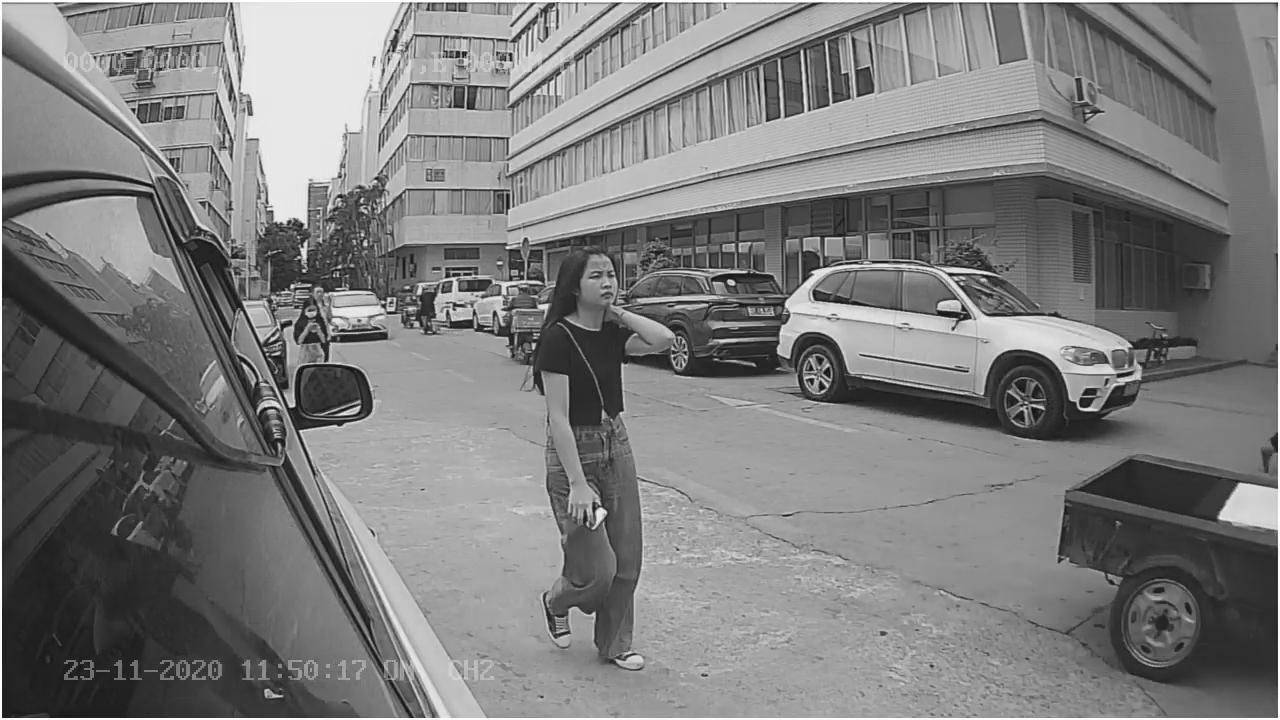person: (515, 244, 675, 671)
